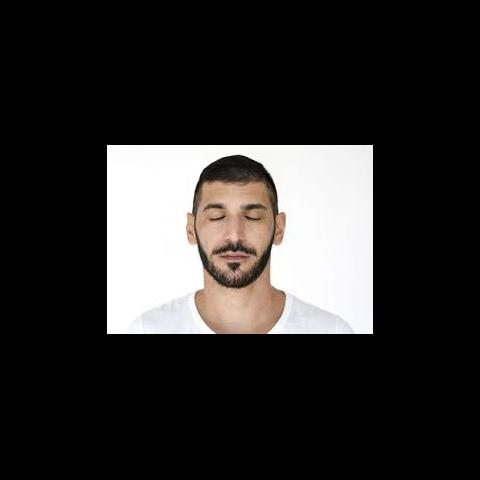closed: (202, 201, 268, 225)
